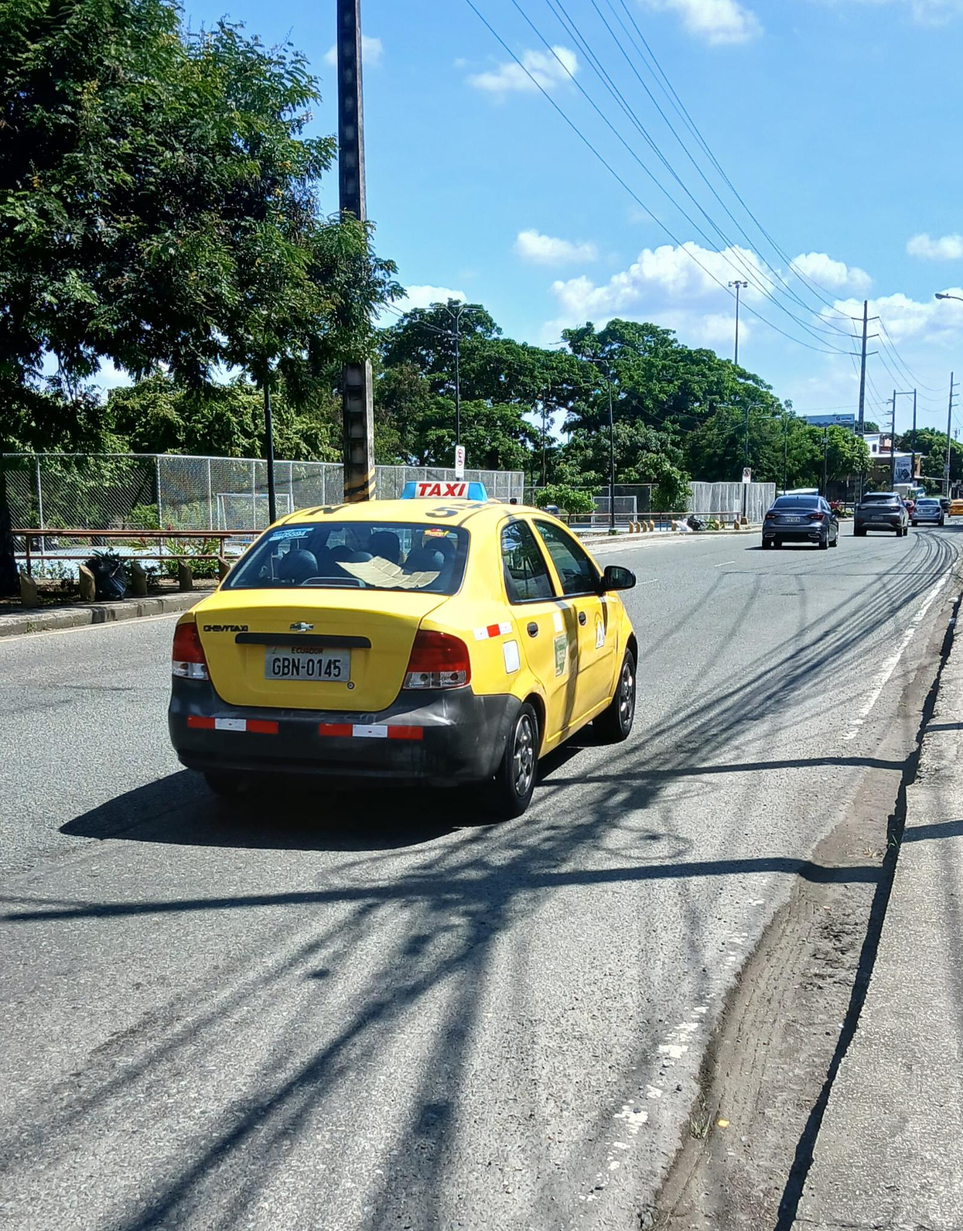license_plate: (264, 648, 350, 681), (783, 516, 801, 522)
